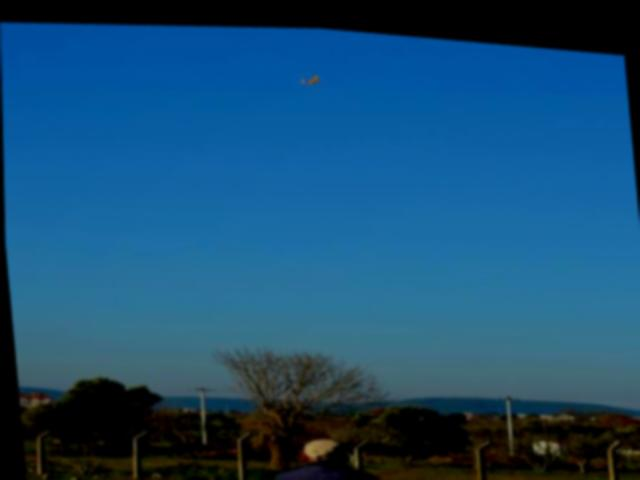iha: (298, 68, 321, 85)
